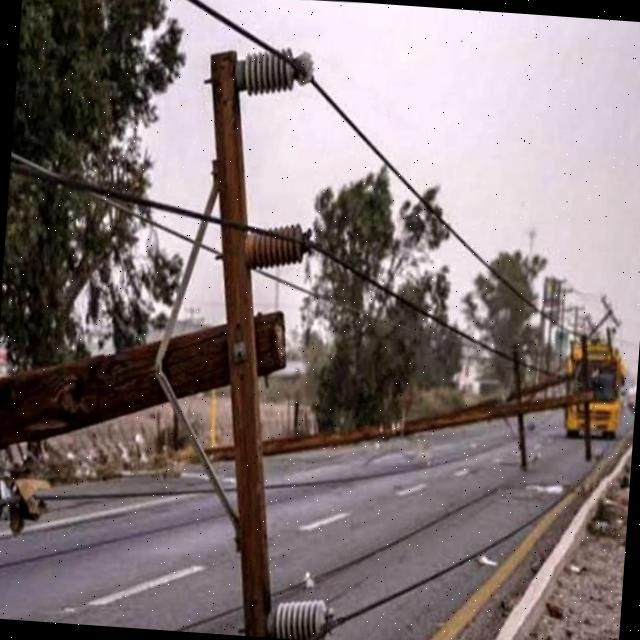Broken Pole: (0, 28, 334, 640), (170, 333, 591, 471)
